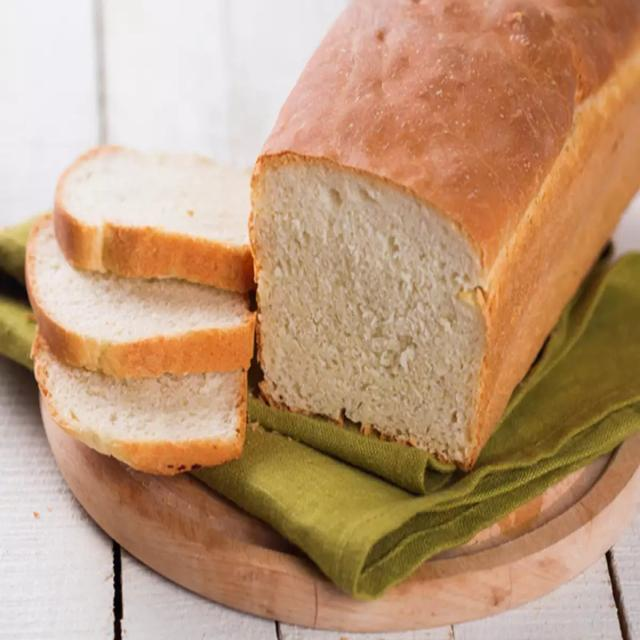Bread: (238, 3, 640, 494), (13, 116, 264, 486)
